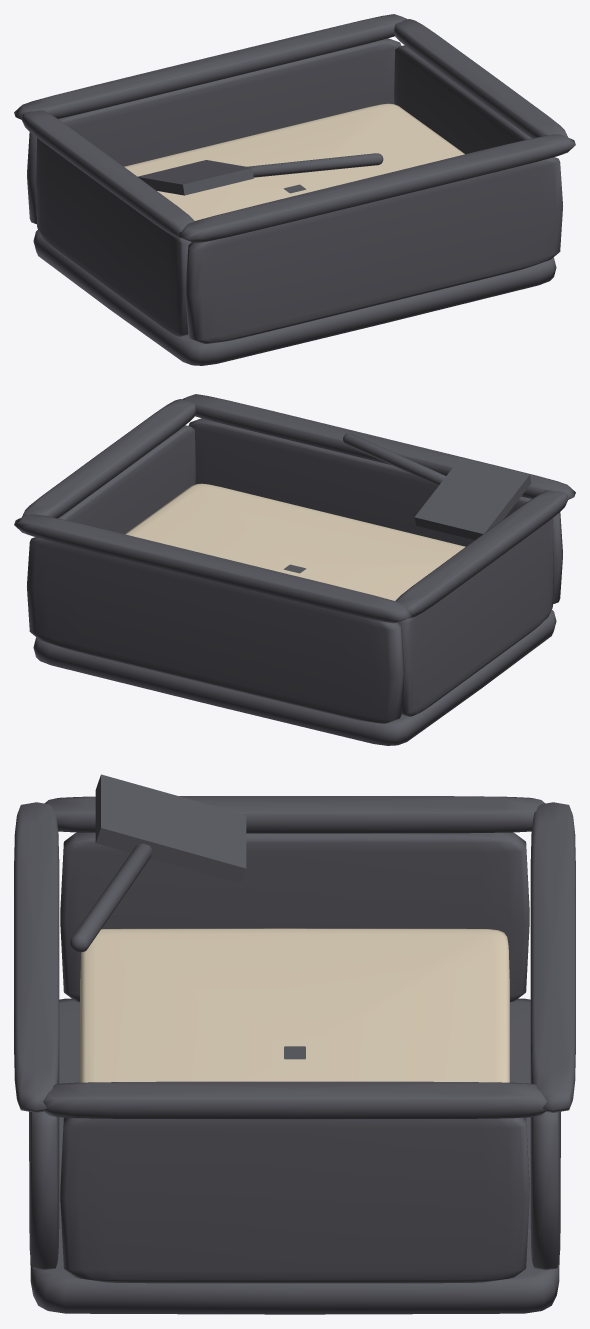
File: pets-and-companions-hd-litter-tray-1ff57b57__28176.glb
The picture shows the model from 3 angles, top to bottom: view 1: azimuth 30°, elevation 25°; view 2: azimuth 150°, elevation 25°; view 3: azimuth 270°, elevation 25°; orthographic projection. The views are drawn at different scales.
Parts seen in each view (by area): view 1: litter-tray; view 2: litter-tray; view 3: litter-tray.
Part boxes in pixels (x1=…): litter-tray: x1=14, y1=14, x2=575, y2=365; litter-tray: x1=14, y1=394, x2=575, y2=745; litter-tray: x1=14, y1=774, x2=575, y2=1314.
Size of the model in its own units: 0.57 by 0.2311 by 0.4438.
